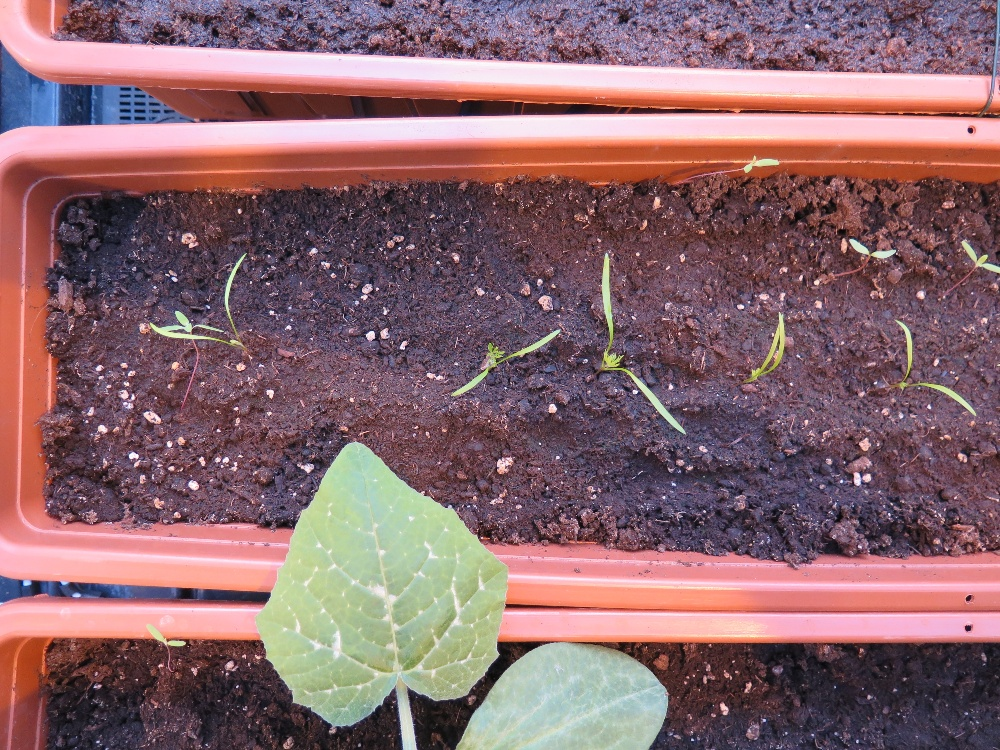crop: (599, 250, 686, 437), (146, 251, 258, 367), (892, 317, 978, 419), (449, 327, 562, 398), (741, 310, 786, 385)
weed: (170, 306, 197, 412), (144, 620, 187, 648), (847, 236, 897, 260), (740, 152, 780, 175)
